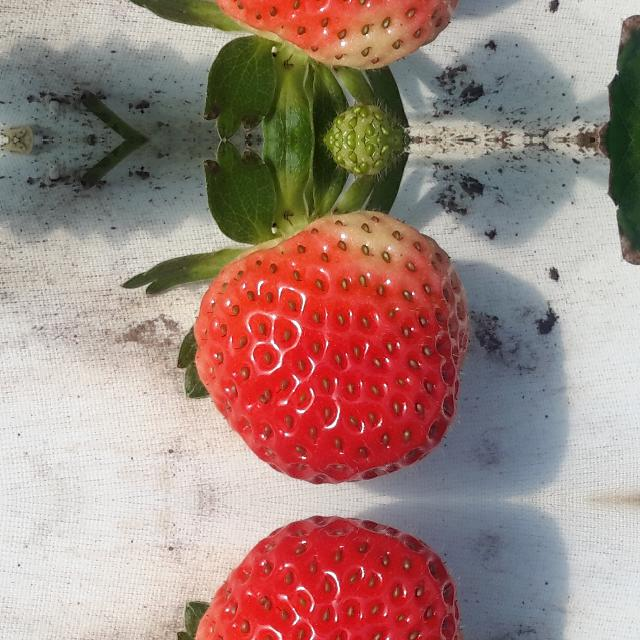Health_100: (194, 211, 466, 484), (193, 516, 466, 640), (193, 0, 466, 69)
